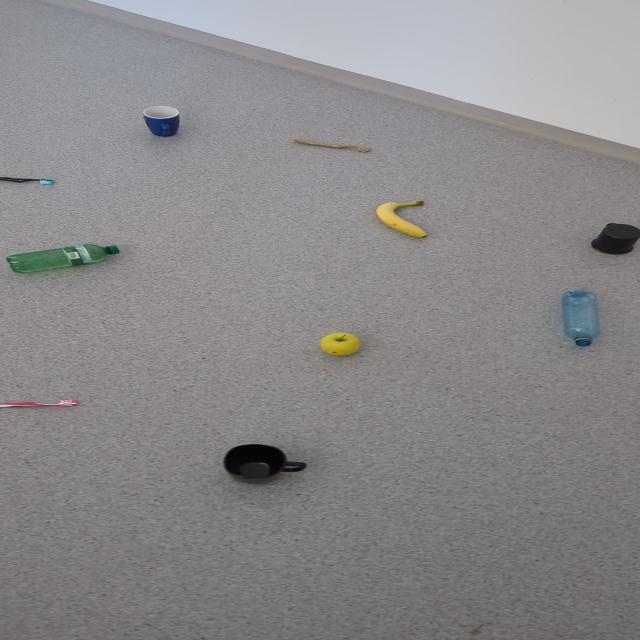apple: (319, 332, 361, 356)
banana: (375, 200, 427, 238)
bottle: (5, 243, 120, 273), (560, 289, 600, 346)
mug: (222, 444, 306, 478), (590, 222, 638, 254), (142, 105, 180, 137)
toothbrush: (0, 399, 79, 408), (0, 177, 54, 186)
